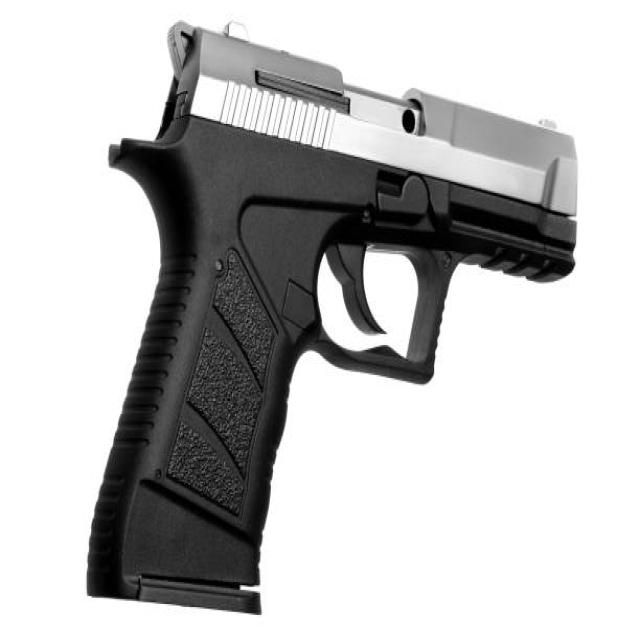pistol: (77, 8, 584, 628)
